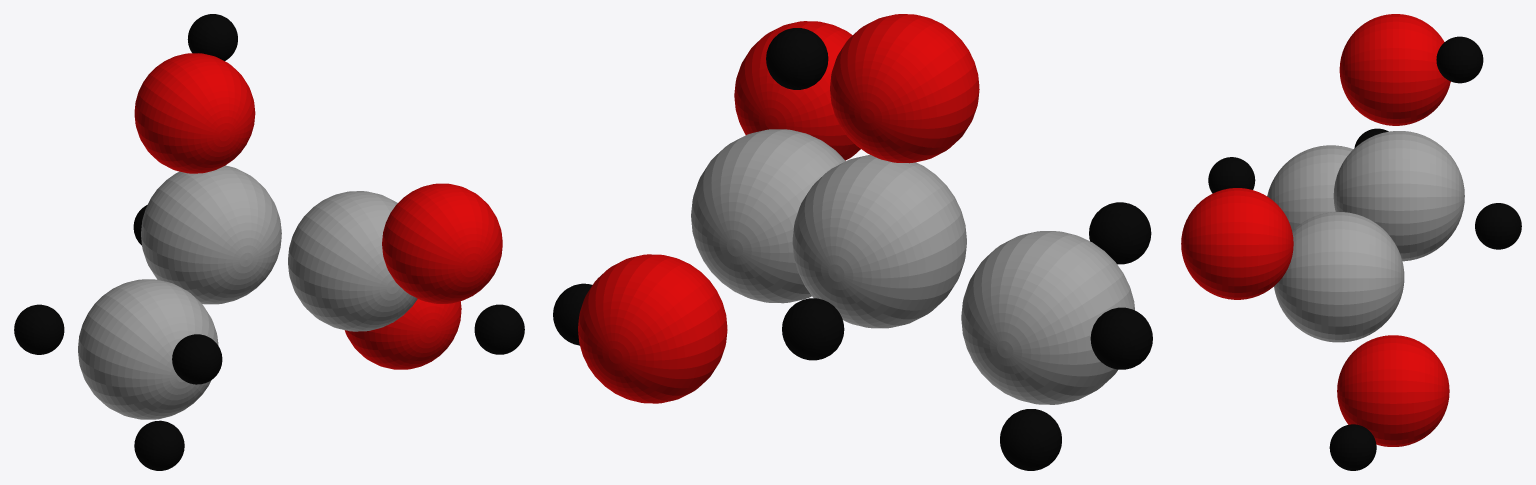
Rendered from Lactic Acid.glb.
3 renders of one model, left to right at view 1: azimuth 30°, elevation 25°; view 2: azimuth 150°, elevation 25°; view 3: azimuth 270°, elevation 25°, orthographic. The views are drawn at different scales.
Parts seen in each view (by area): view 1: world; view 2: world; view 3: world.
Part boxes in pixels (box(x1,y1,x2,y2)): world: box(14, 14, 524, 470); world: box(553, 14, 1152, 470); world: box(1181, 14, 1521, 470).
Bounding box in the file's own units: 5.63 × 4.09 × 3.63.
